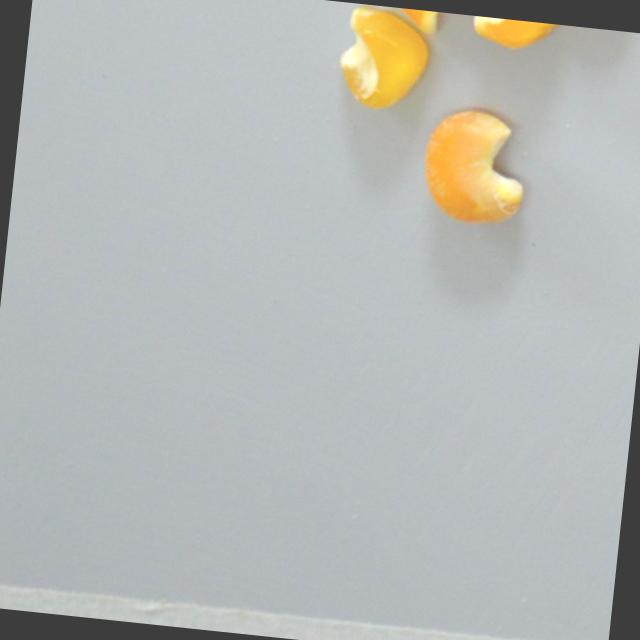no_canjicado: (331, 3, 432, 116), (470, 14, 566, 54), (372, 4, 485, 37)
pelicula: (413, 106, 533, 230)
